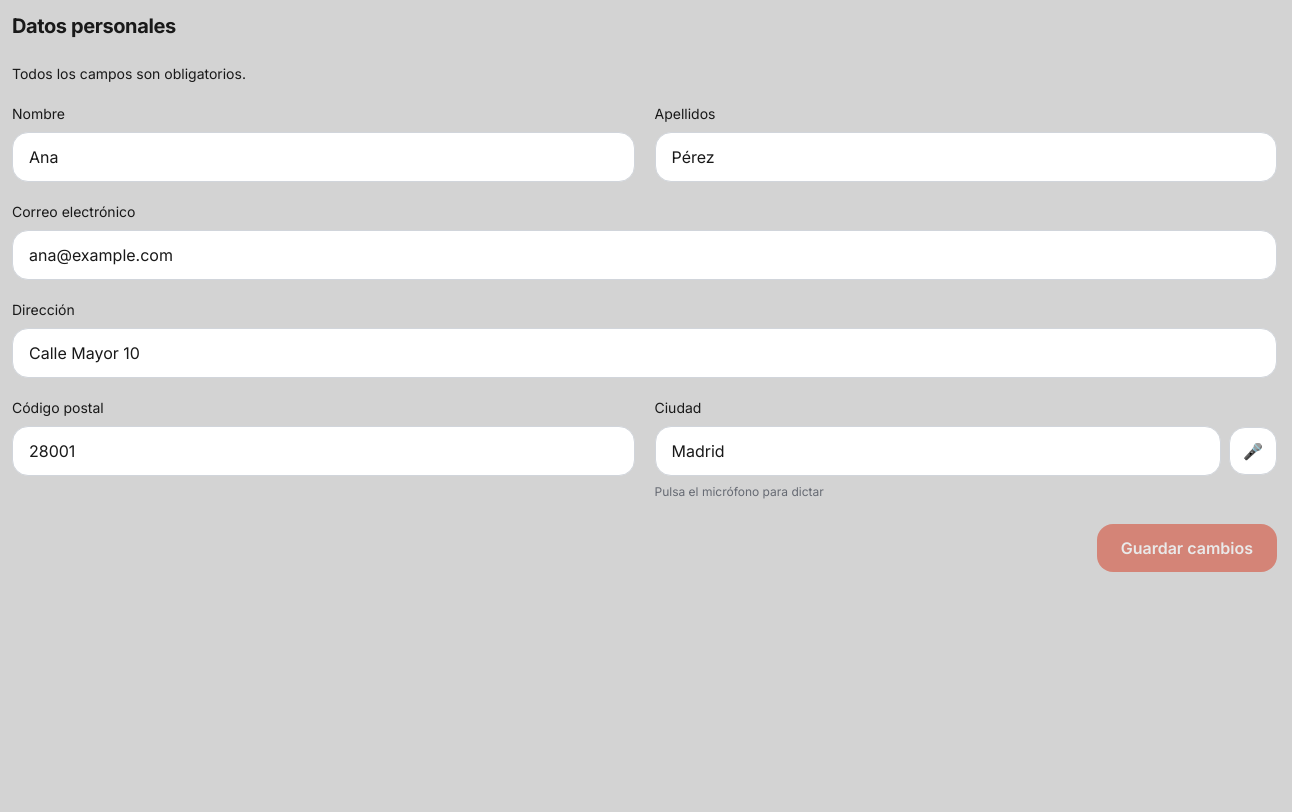
ProfileForm › detecta cambios sin modificar los datos del store
Replace the text in the field with id "firstName" with "Lucía". click: (323, 157)
box: left=12, top=132, right=634, bottom=182
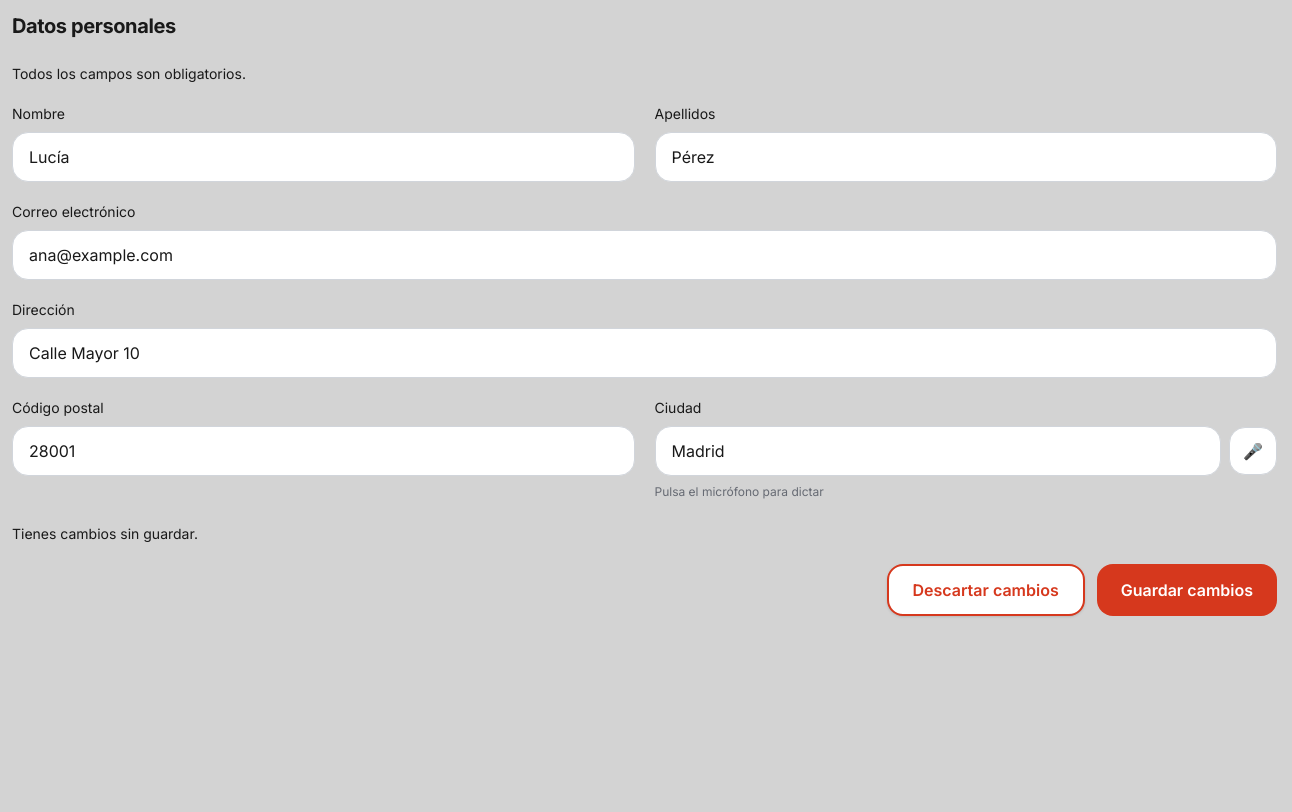
Expected: the text "Tienes cambios sin guardar." is shown, left=12, top=525, right=198, bottom=542
Replace the text in the field with id "firstName" with "Ana". click: (323, 157)
box: left=12, top=132, right=634, bottom=182
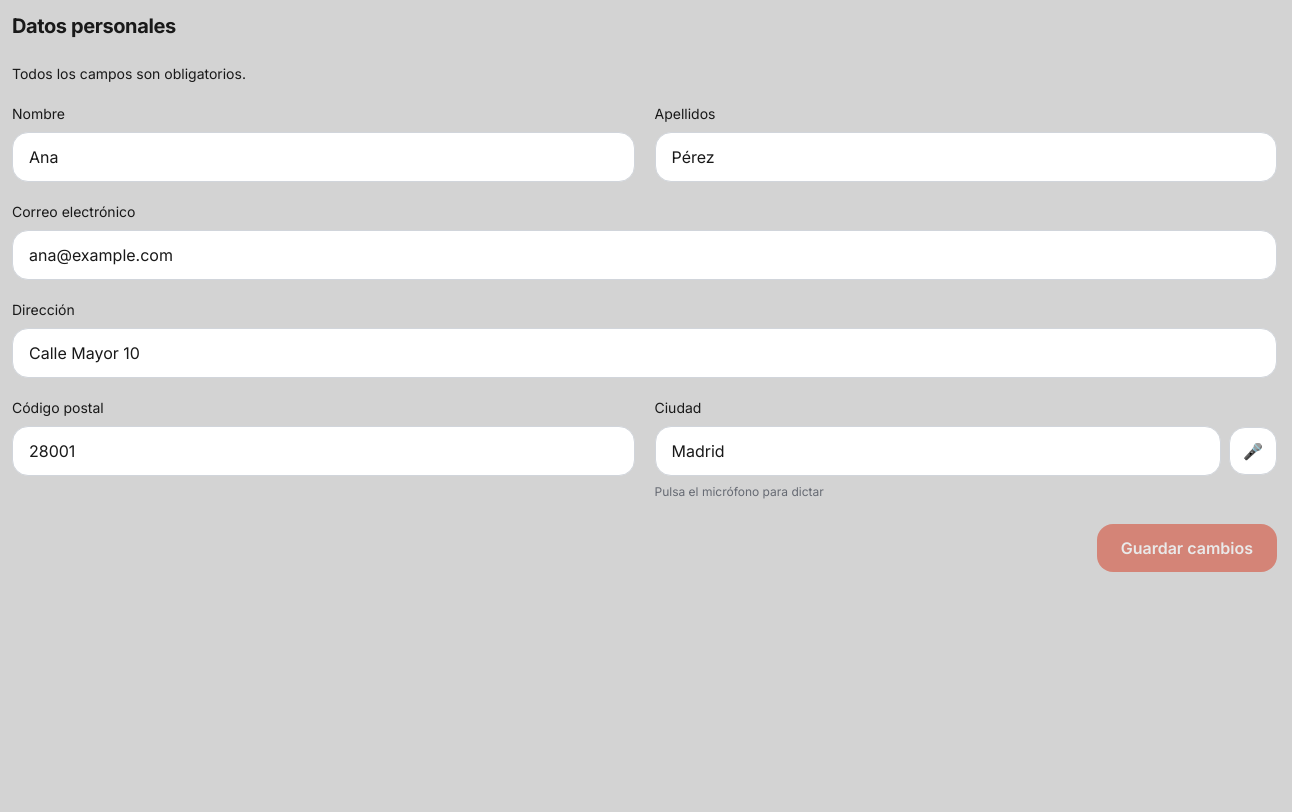
Expected: the text "Tienes cambios sin guardar." is gone
